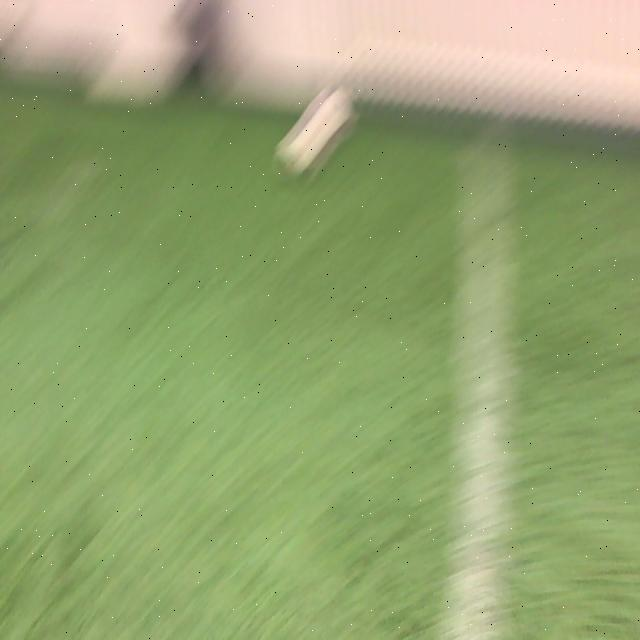ball: (275, 82, 354, 178)
